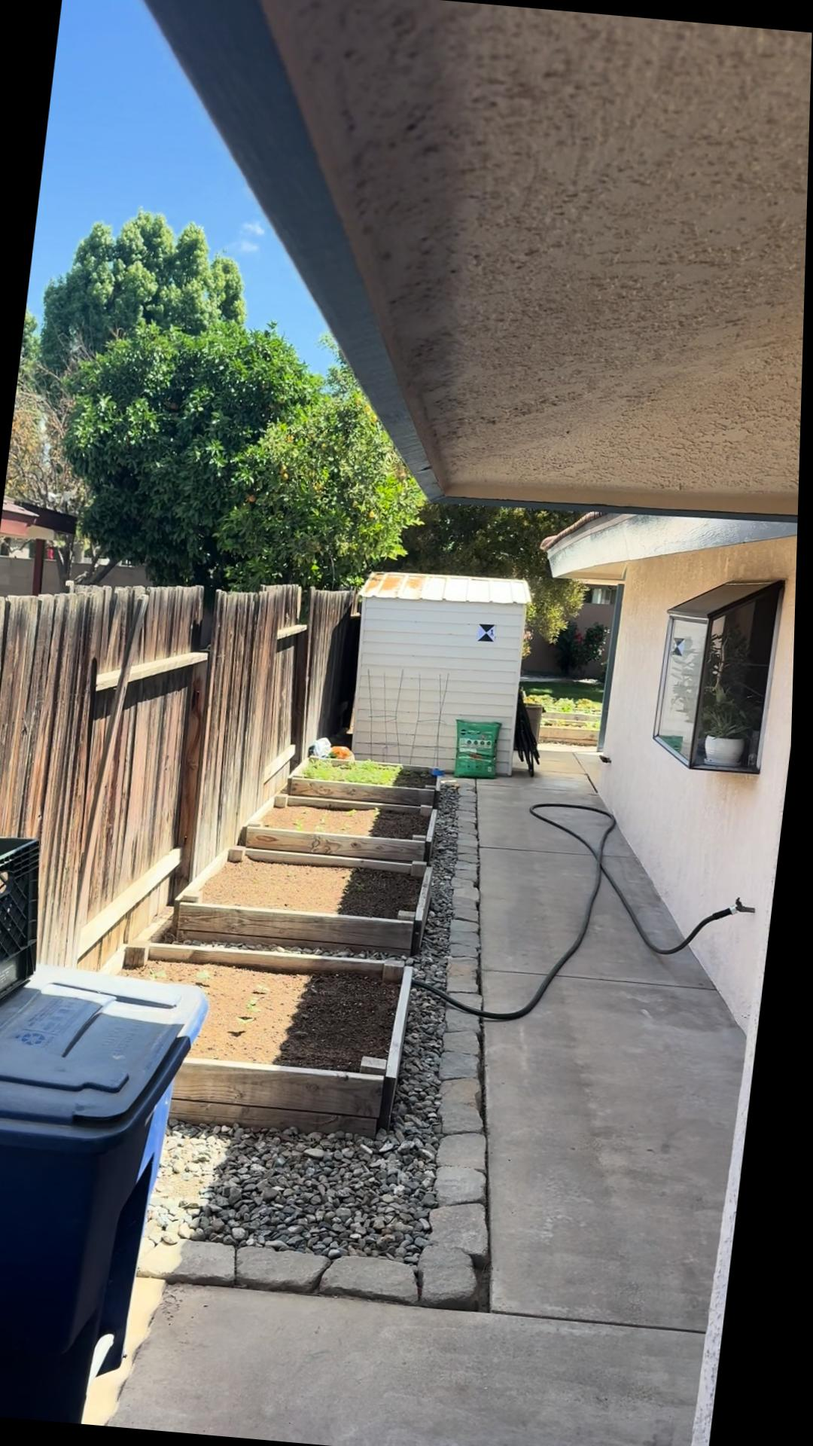target1: (475, 623, 496, 644)
